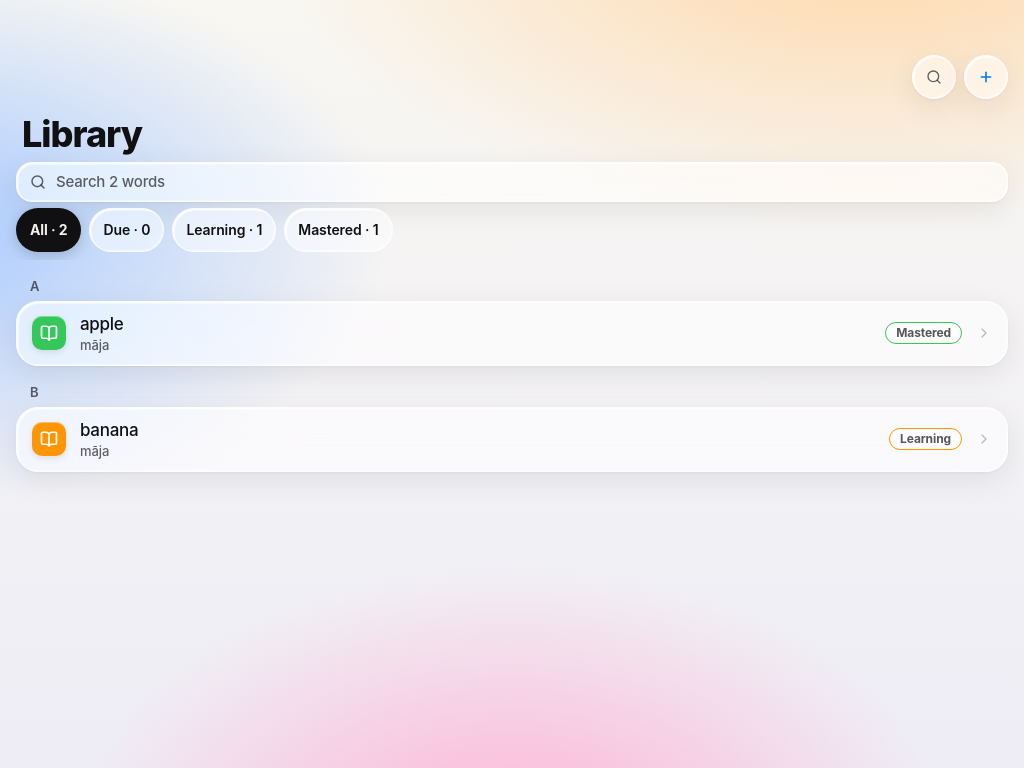
Test: LibraryScreen › Filter pills › should filter to learning words when Learning pill is active
This screenshot has width=1024, height=768.
Check: the text "apple" is shown, box [80,314,124,334]
Click the button with aria-label "Filter: Learning".
click(224, 230)  # box [172,208,276,252]
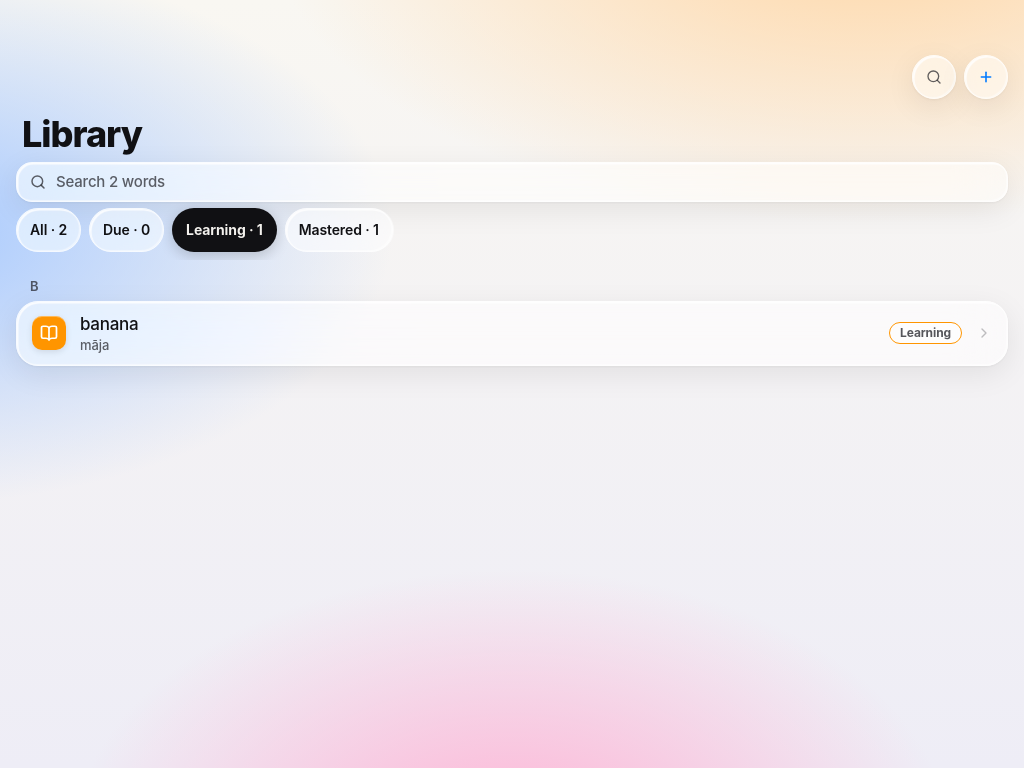
Check: the text "banana" is shown, box [80,314,138,334]
Check: the button "apple" is gone
